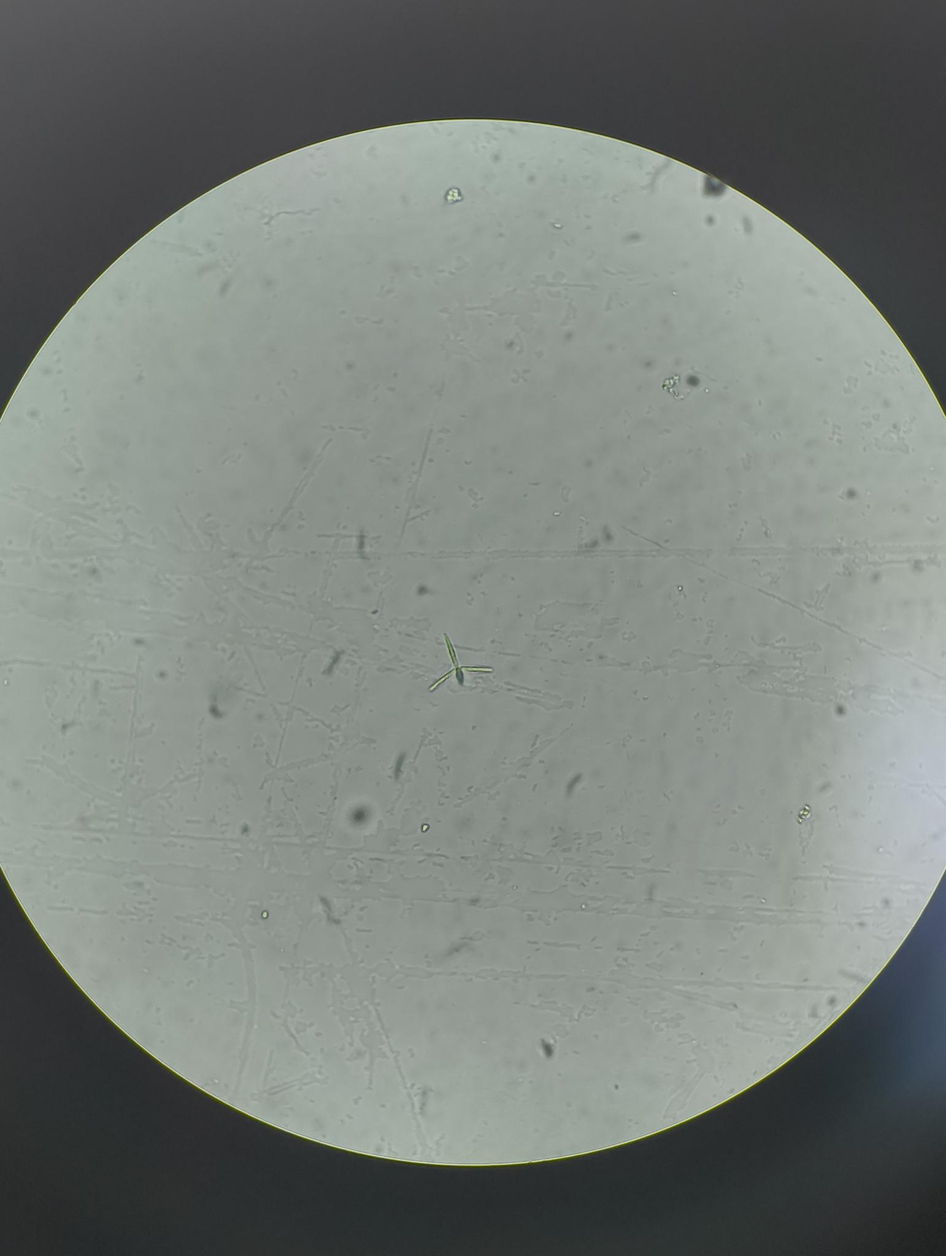Scenedesmus: (422, 625, 501, 694)
